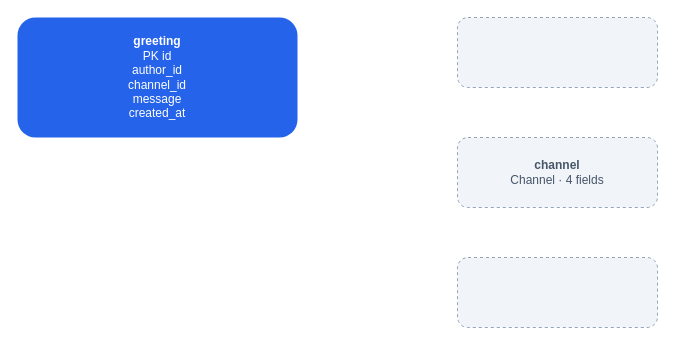
Some shapes in this 675 by 345 pixel diagram are drawn without their labels. The centre of each missing label's shape, as x and y in pixels:
"greeting_reaction Greeting reaction · 5 fields" goes at point (557, 292).
"person Person · 4 fields" goes at point (557, 52).
